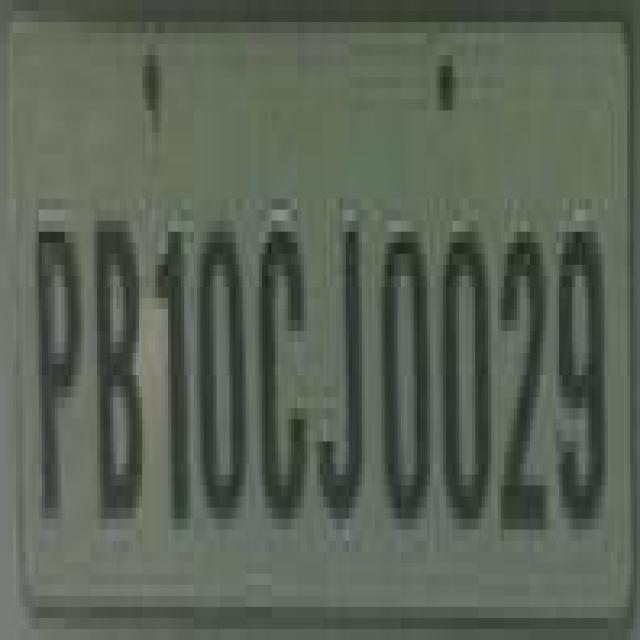license_plate: (3, 33, 640, 640)
